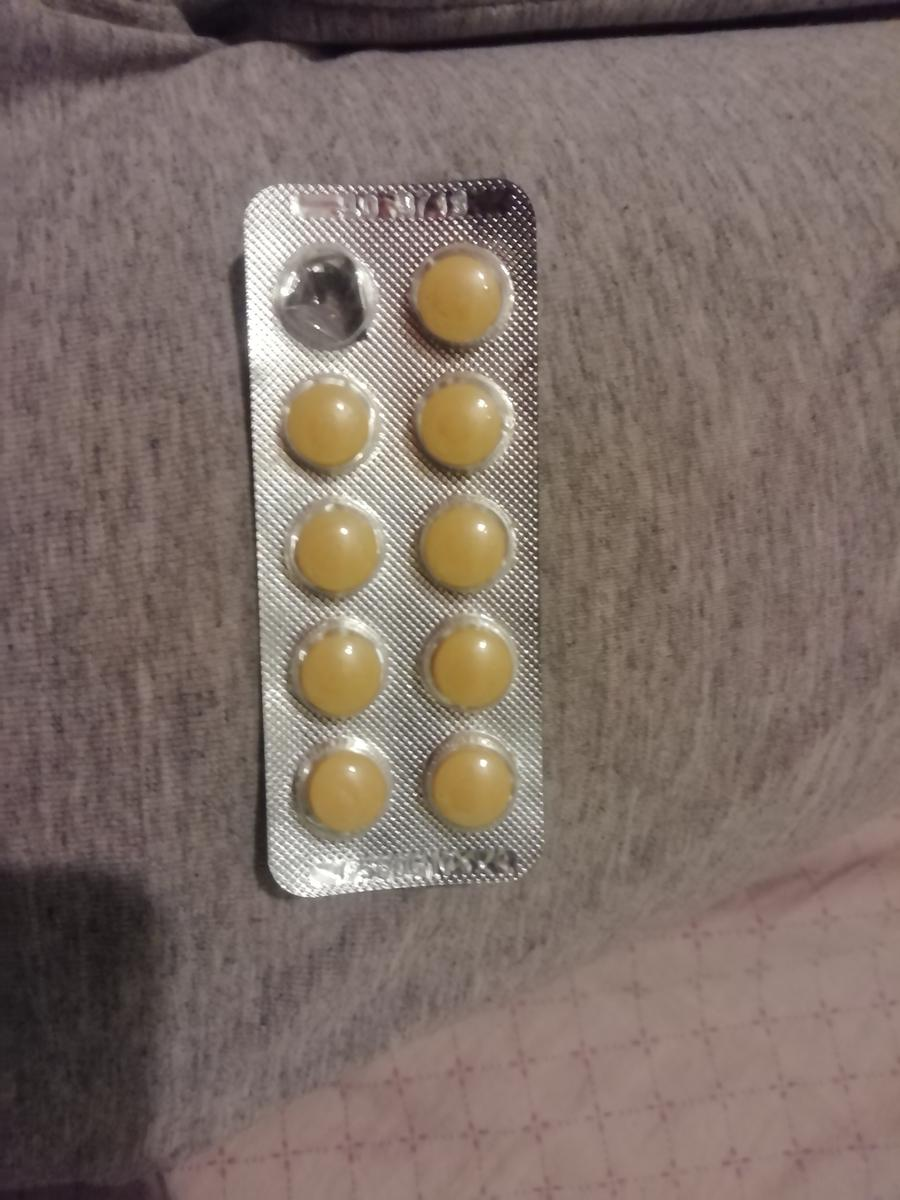tablet: (408, 242, 513, 354), (408, 363, 513, 475), (406, 478, 511, 590), (415, 604, 520, 716), (419, 727, 524, 839), (294, 727, 399, 839), (283, 620, 388, 732), (283, 488, 388, 600), (269, 367, 374, 479)
